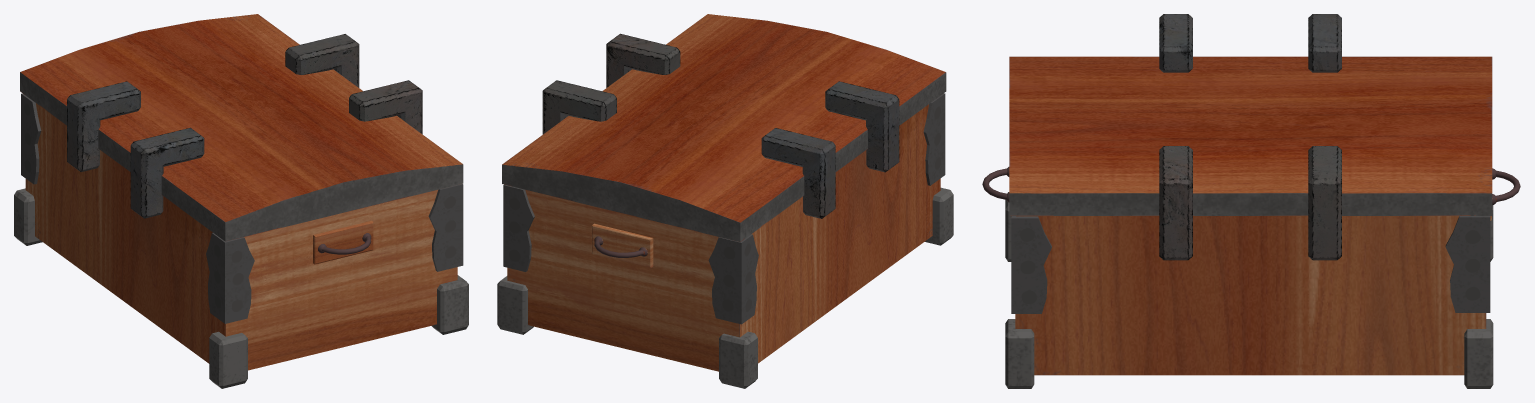
Rendered from Chest_01.fbx.
3 renders of one model, left to right at view 1: azimuth 30°, elevation 25°; view 2: azimuth 150°, elevation 25°; view 3: azimuth 270°, elevation 25°, orthographic. The views are drawn at different scales.
Parts seen in each view (by area): view 1: pCube29; view 2: pCube29; view 3: pCube29.
Boxes of the visible parts, x1=… form: pCube29: x1=14, y1=14, x2=468, y2=388; pCube29: x1=497, y1=14, x2=953, y2=388; pCube29: x1=982, y1=14, x2=1520, y2=388.
Bounding box in the file's own units: 3.62 × 2.39 × 5.1.
3 materials, 3 textured.
